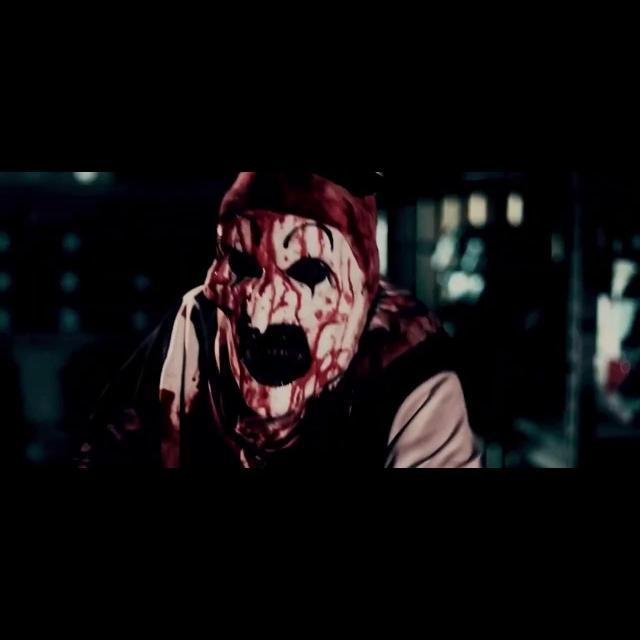blood: (201, 210, 364, 470), (184, 392, 198, 414)
